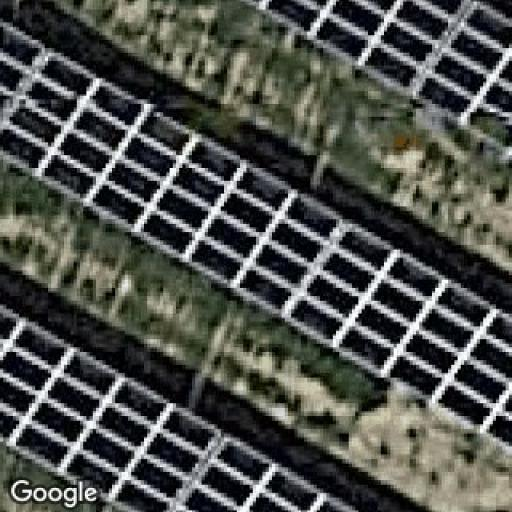solar-panel: (0, 21, 512, 445), (0, 310, 354, 512), (227, 0, 512, 144)
